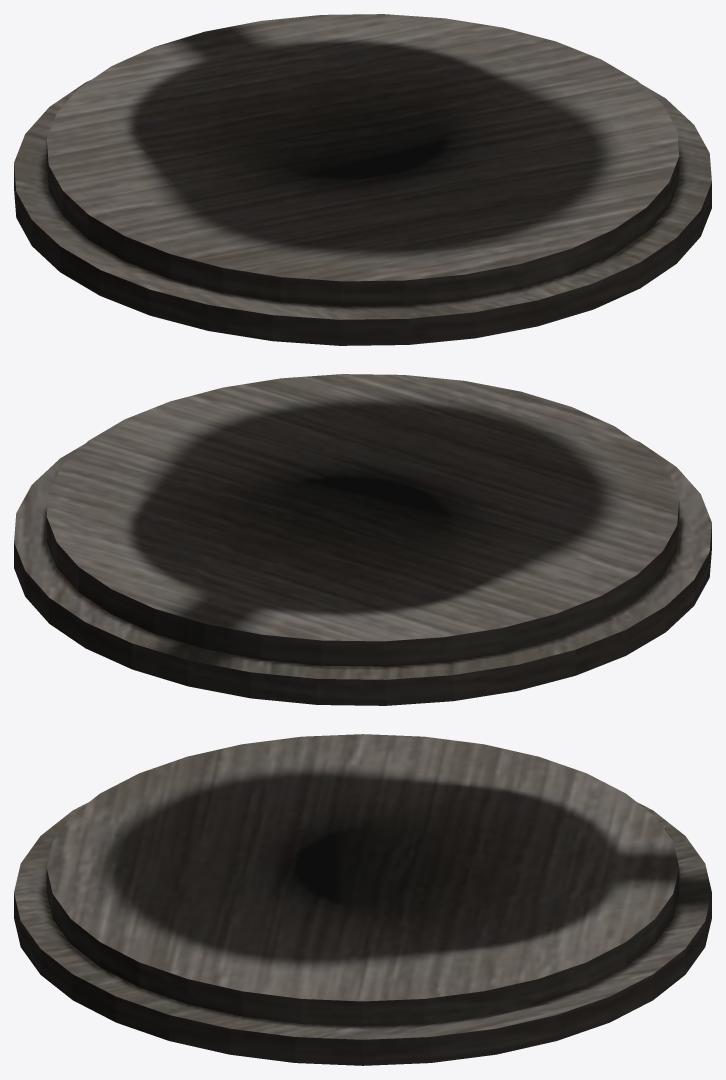
File: stump.dae
3 views of the same model, one above another, from view 1: azimuth 30°, elevation 25°; view 2: azimuth 150°, elevation 25°; view 3: azimuth 270°, elevation 25° (orthographic).
Visible parts, largest first — view 1: Circle; view 2: Circle; view 3: Circle.
Part boxes in pixels (<box>): Circle: <box>14,14,711,345</box>; Circle: <box>14,374,711,705</box>; Circle: <box>14,734,711,1065</box>.
Size of the model in its own units: 0.3568 by 0.3568 by 0.0285.
1 material, 1 textured.
